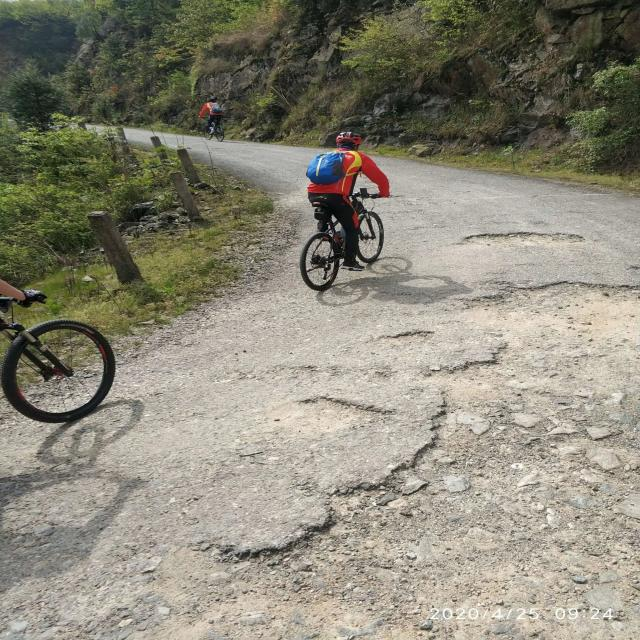Pothole: (215, 279, 640, 607), (457, 224, 622, 262)
